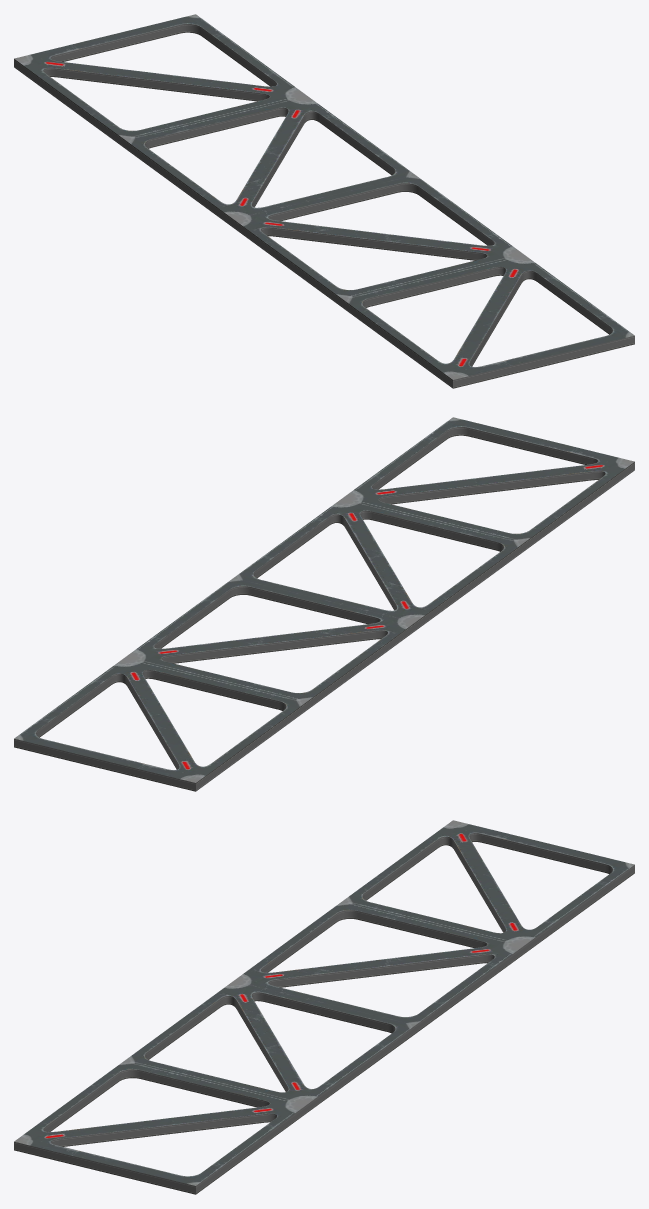
Rendered from Column MetalSupport.glb.
3 views of the same model, one above another, from view 1: azimuth 30°, elevation 25°; view 2: azimuth 150°, elevation 25°; view 3: azimuth 330°, elevation 25° (orthographic).
Visible parts, largest first — view 1: Column_MetalSupport; view 2: Column_MetalSupport; view 3: Column_MetalSupport.
Boxes of the visible parts, left/top/right/bottom form: Column_MetalSupport: left=14, top=14, right=634, bottom=388; Column_MetalSupport: left=14, top=417, right=634, bottom=791; Column_MetalSupport: left=14, top=820, right=634, bottom=1194.
Bounding box in the file's own units: 0.9566 × 0.044 × 4.
Materials: 2 (2 with a texture image).
